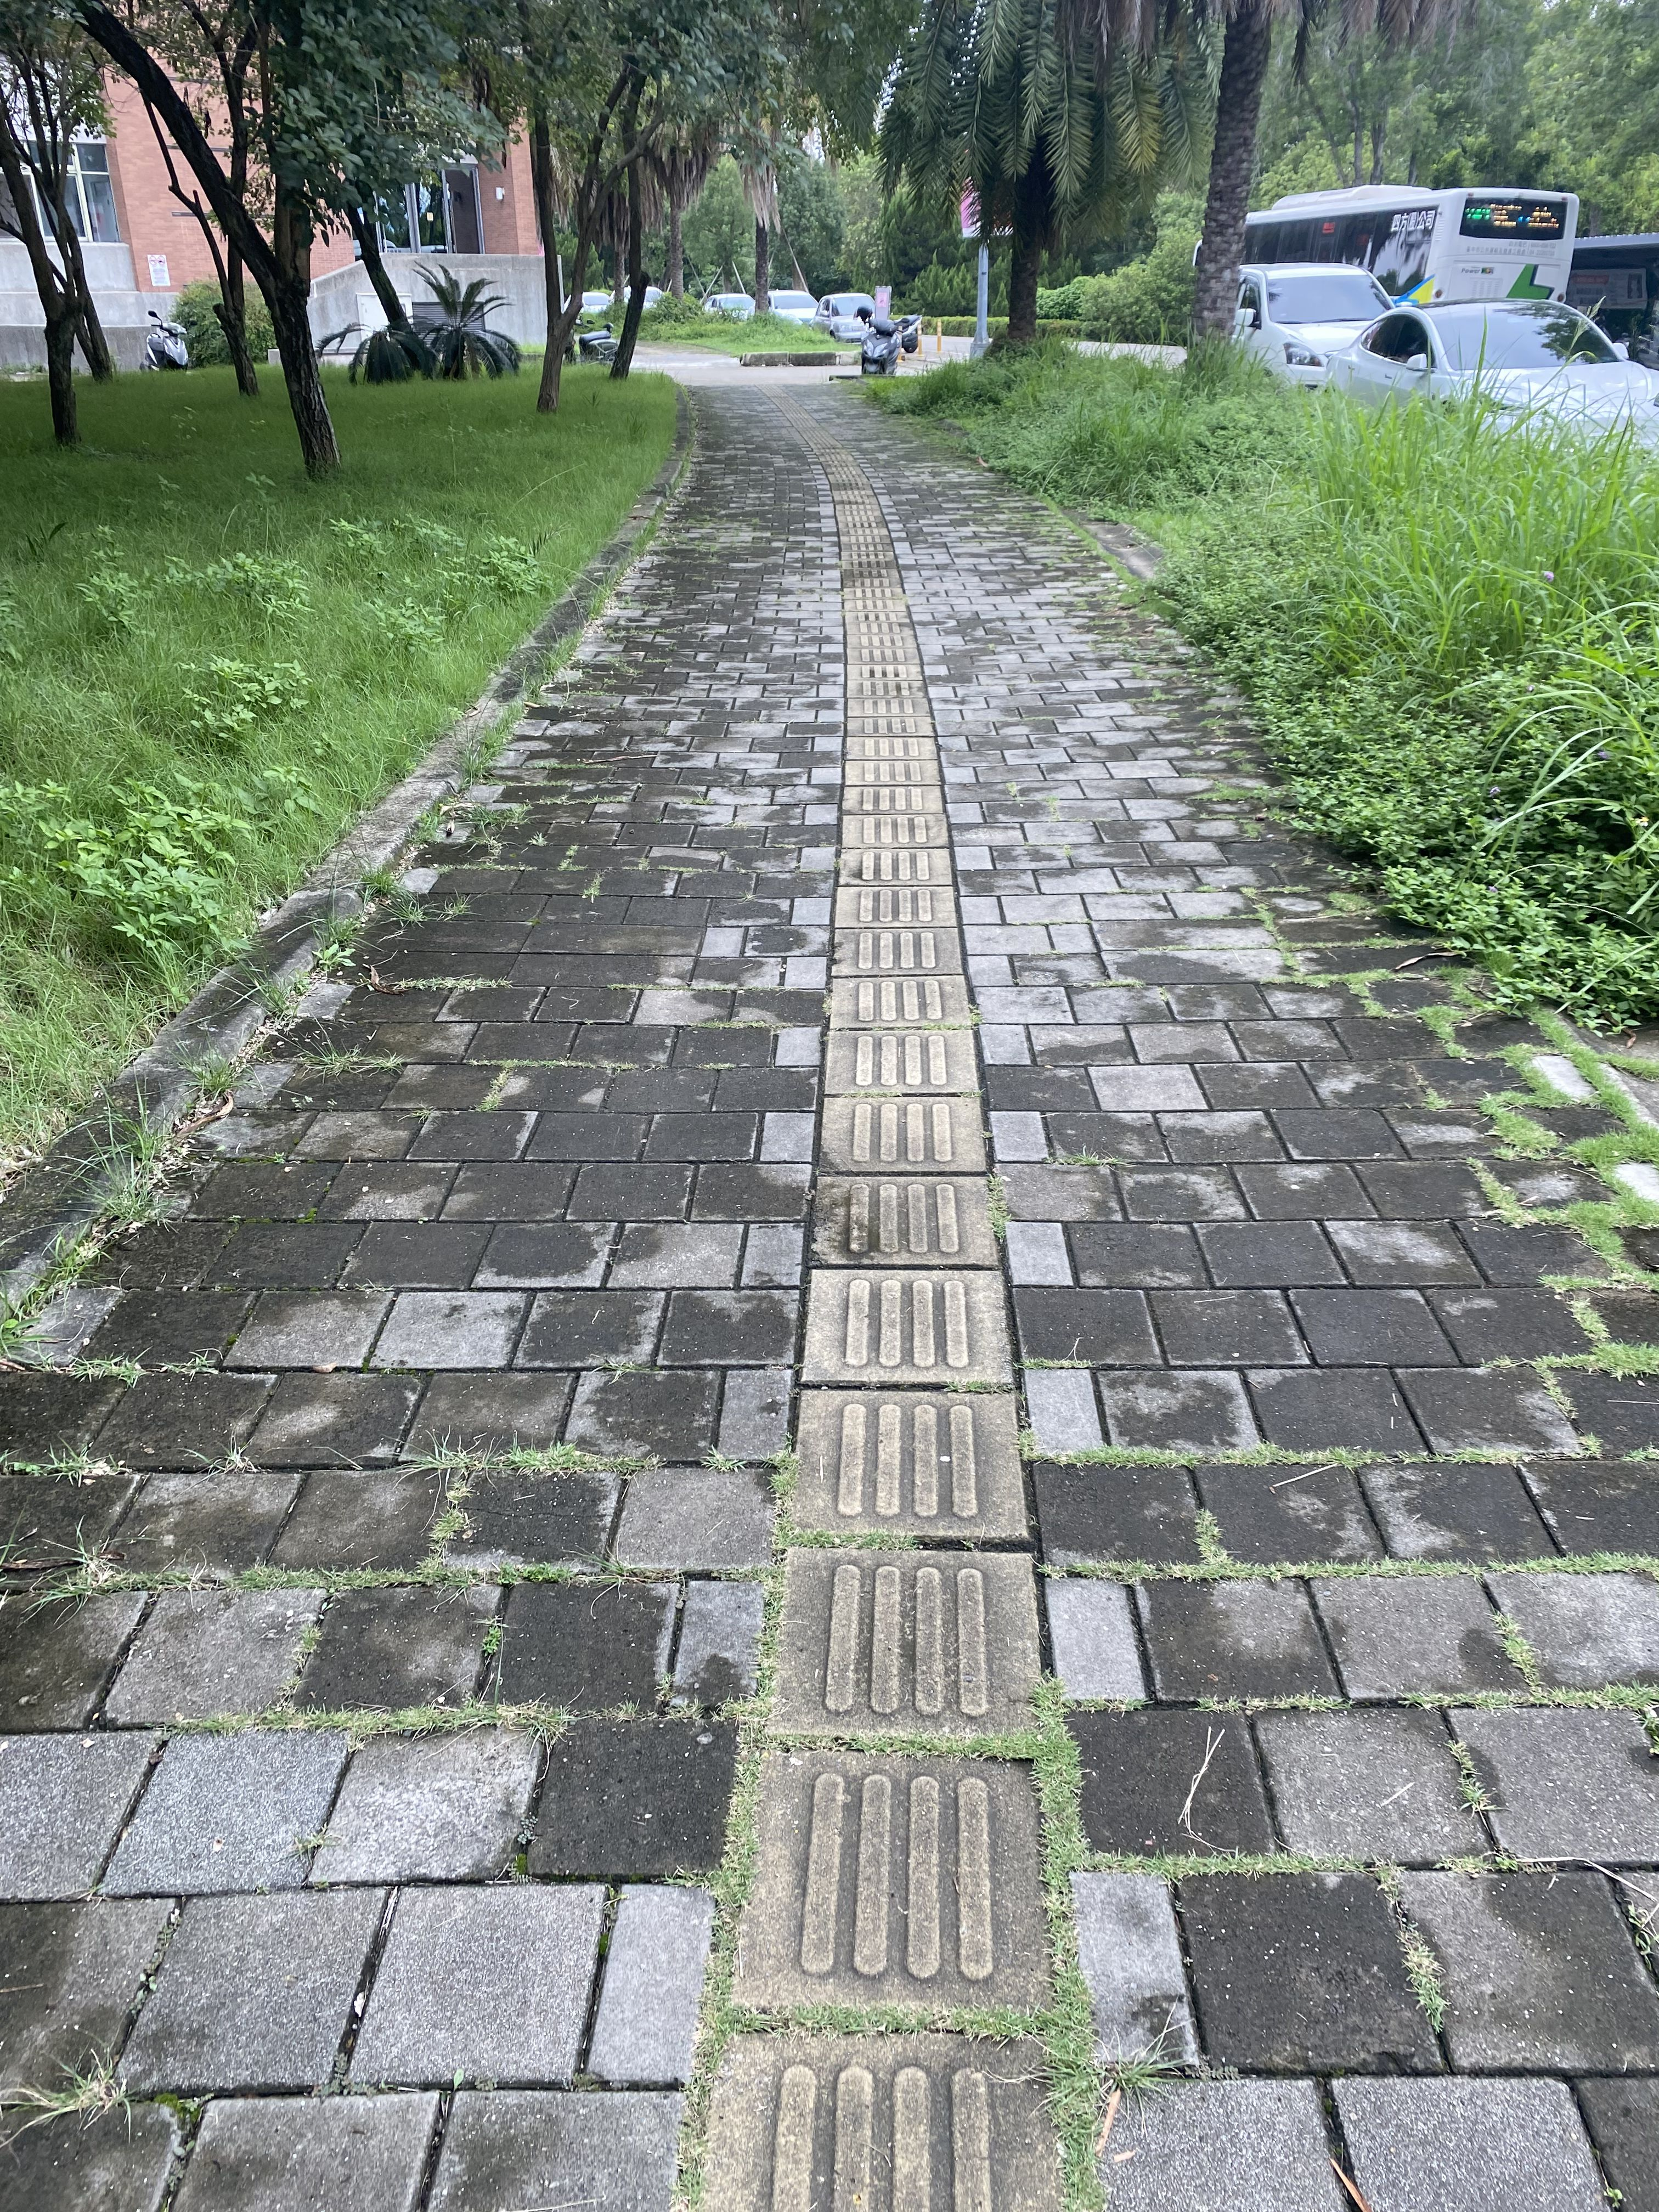sidewalk: (0, 338, 1659, 2212)
